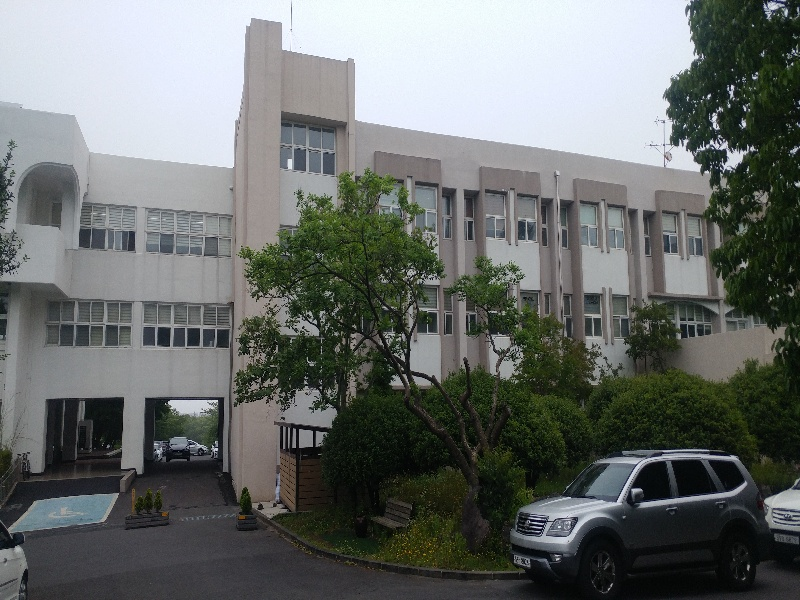Main Building: (6, 19, 761, 374), (12, 113, 239, 476)
